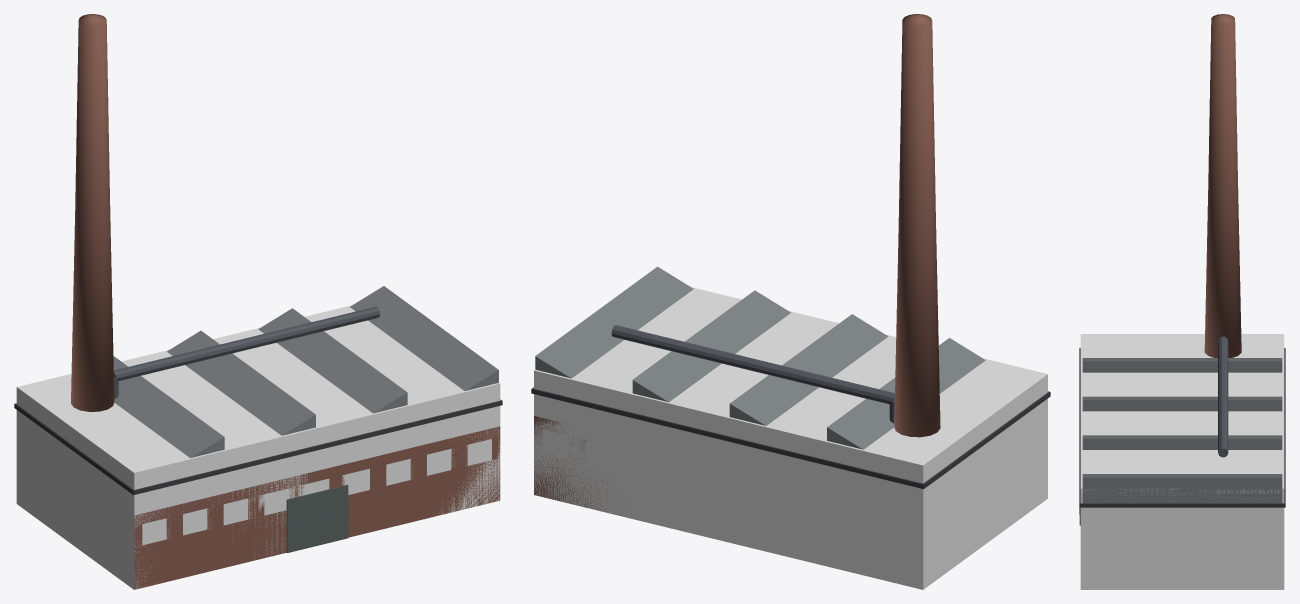
File: factory.glb
The picture shows the model from 3 angles, left to right: view 1: azimuth 30°, elevation 25°; view 2: azimuth 150°, elevation 25°; view 3: azimuth 270°, elevation 25°; orthographic projection. The views are drawn at different scales.
Visible parts, largest first — view 1: factory-col, facade_front, chimney, saw.003, saw.002, saw.001, saw, gate, pipe, roof; view 2: factory-col, chimney, saw.003, saw.001, saw.002, saw, pipe, roof, facade_back; view 3: factory-col, chimney, saw.003, saw.001, saw, saw.002, roof, pipe.
Boxes of the visible parts, box(x1,y1,x2,y2) form: factory-col: box(16, 305, 500, 589); facade_front: box(134, 426, 500, 589); chimney: box(71, 14, 114, 411); saw.003: box(350, 286, 498, 390); saw.002: box(258, 308, 407, 413); saw.001: box(167, 330, 315, 435); saw: box(113, 356, 224, 457); gate: box(286, 484, 348, 552); pipe: box(113, 306, 380, 380); roof: box(14, 399, 502, 495); factory-col: box(534, 287, 1047, 589); chimney: box(894, 14, 940, 437); saw.003: box(535, 266, 693, 378); saw.001: box(729, 314, 888, 425); saw.002: box(632, 290, 790, 402); saw: box(827, 338, 985, 449); pipe: box(611, 325, 894, 404); roof: box(531, 387, 1050, 488); facade_back: box(534, 416, 621, 515); factory-col: box(1080, 334, 1284, 589); chimney: box(1204, 14, 1241, 357); saw.003: box(1082, 474, 1282, 503); saw.001: box(1082, 396, 1282, 411); saw: box(1082, 358, 1282, 372); saw.002: box(1082, 435, 1282, 449); roof: box(1079, 348, 1285, 507); pipe: box(1218, 336, 1228, 457).
Bounding box in the file's own units: 36.3 × 47.5 × 20.3.
